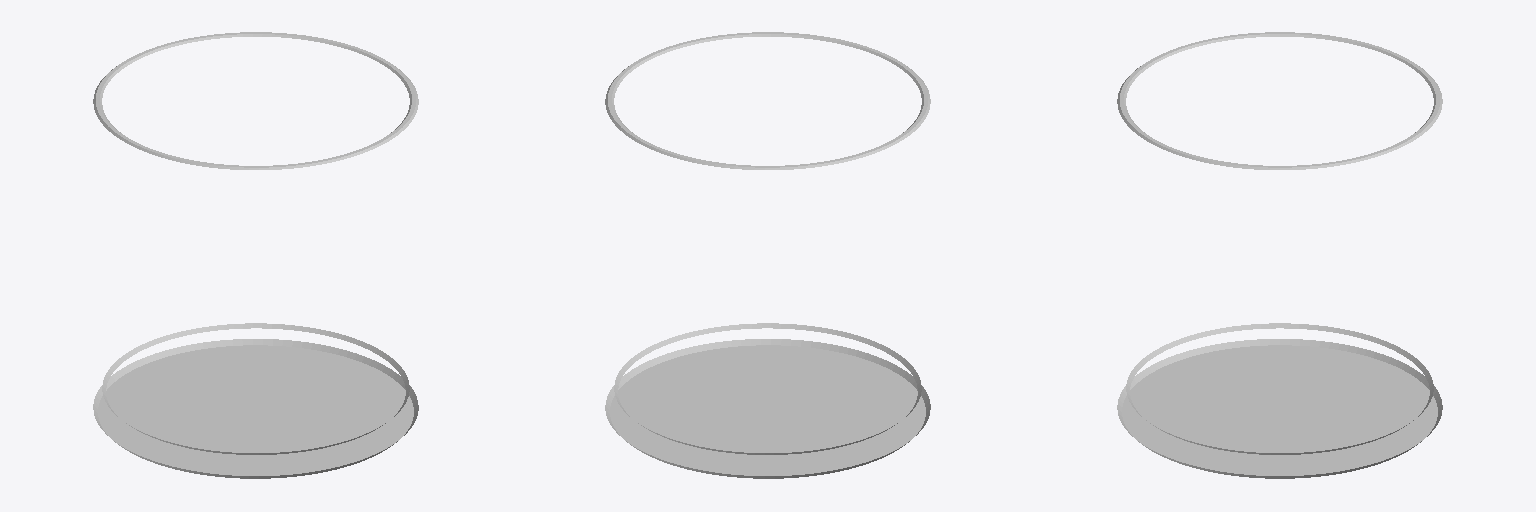
File: cup2.obj
3 renders of one model, left to right at view 1: azimuth 30°, elevation 25°; view 2: azimuth 150°, elevation 25°; view 3: azimuth 270°, elevation 25°, orthographic.
Visible parts, largest first — view 1: Cylinder; view 2: Cylinder; view 3: Cylinder.
Part boxes in pixels (bbox=[...]): Cylinder: bbox=[93, 32, 418, 478]; Cylinder: bbox=[605, 32, 930, 478]; Cylinder: bbox=[1117, 32, 1442, 478].
Size of the model in its own units: 5.94 by 6.29 by 5.94.